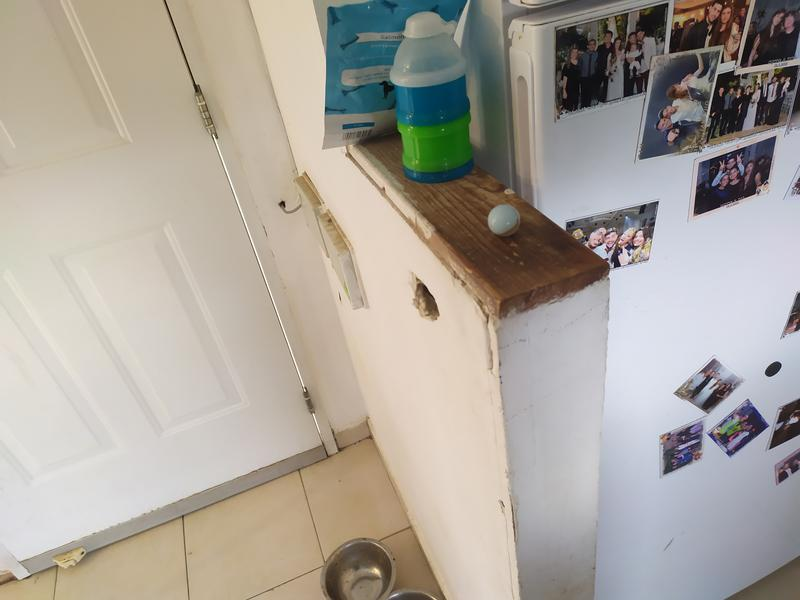Warning: (486, 202, 523, 239)
